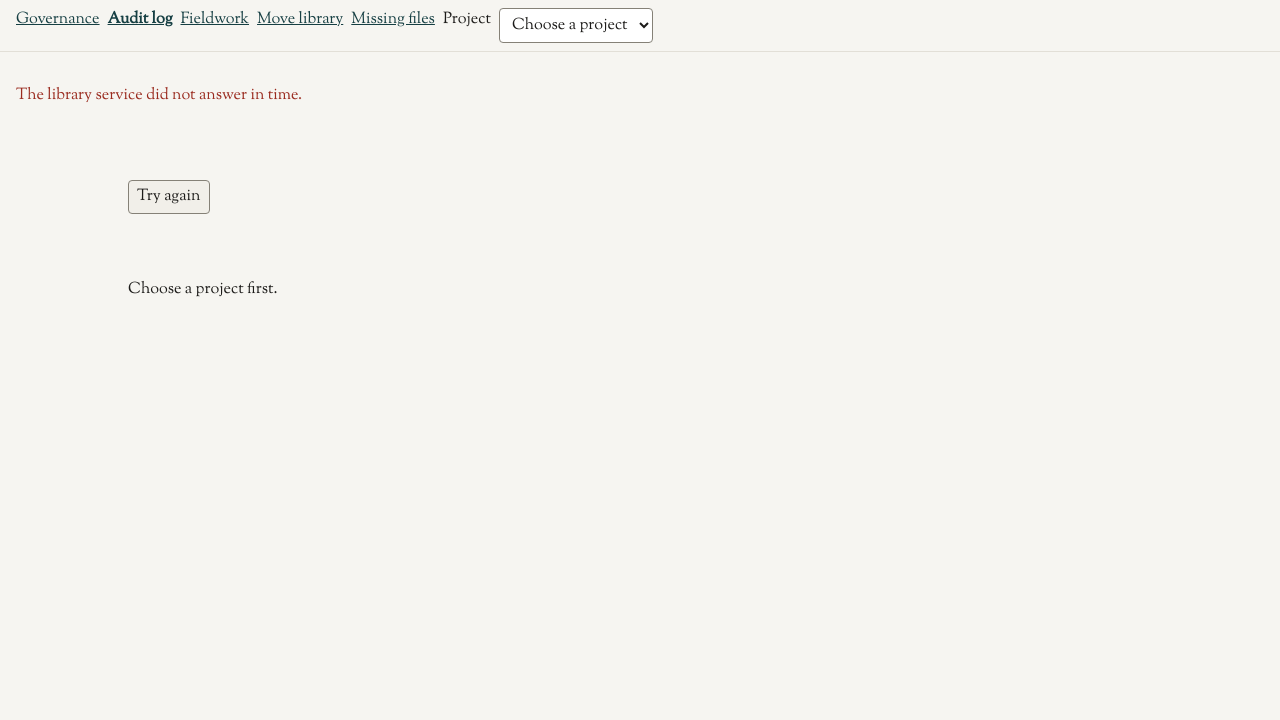
Test: FR-756: the governance screens' list of projects › a list that never settles is given up at the limit: the alert and “Try again” (not “not in this library”); pressed, the project's screen is shown
Expected: the text "Choose a project first." is shown, [128,278,278,301]
Click the button "Try again" at (169, 197), box [128,180,210,214]
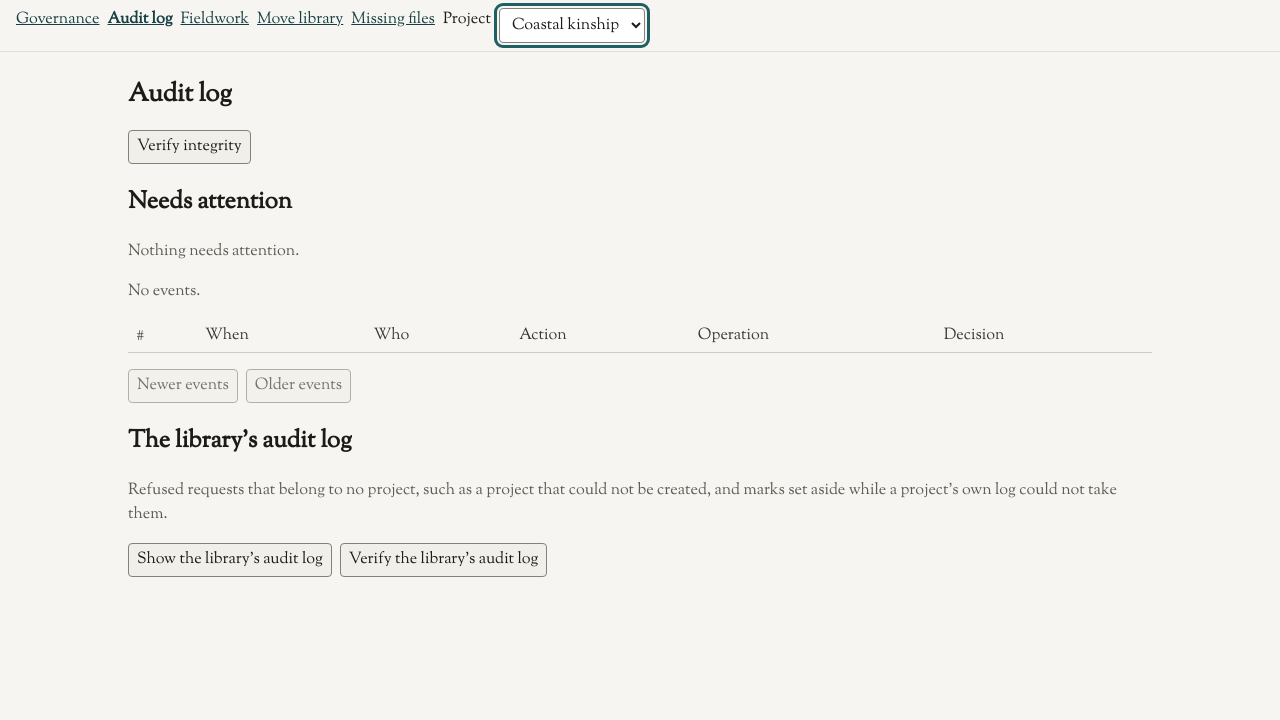
Expected: the heading "Audit log" is shown, [128,76,232,113]
Expected: the dropdown labelled "Project" shows " Coastal kinship ", [499,8,645,43]
Expected: the button "Try again" is gone
